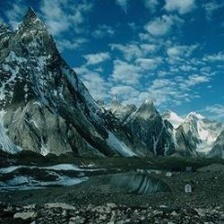neutral: (4, 6, 223, 219)
